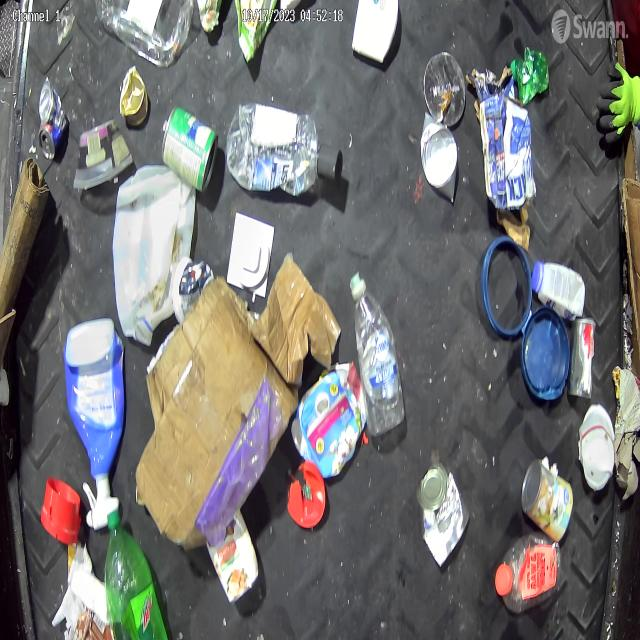can: (419, 466, 468, 569), (162, 108, 220, 192), (522, 458, 574, 541), (420, 110, 458, 204), (38, 74, 68, 161), (569, 316, 597, 402), (119, 65, 149, 129)
milk_jug: (112, 164, 196, 350)
non_white_jug: (66, 317, 128, 531)
plastic_bottle: (226, 101, 344, 196), (348, 269, 407, 445)
